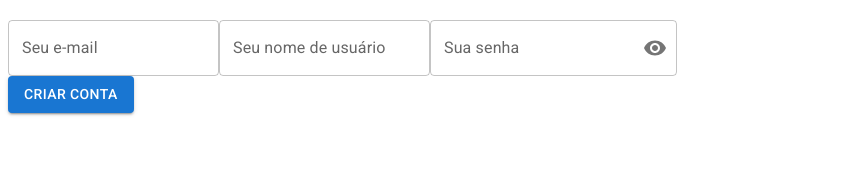
it: Create Account Form - account validation schema › username › renders input error messages when try submit form with username with whitespace between the text
The width and height of the screenshot is (862, 172).
Step 1. Type "user name" into the field labelled "Seu nome de usuário" → point(324, 48), box x1=219 y1=20 x2=430 y2=76
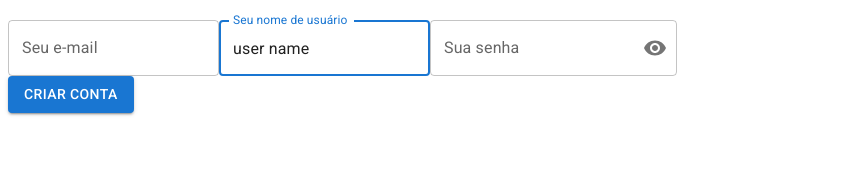
Step 2. Click the button "Criar conta" → point(71, 94), box x1=8 y1=76 x2=134 y2=112
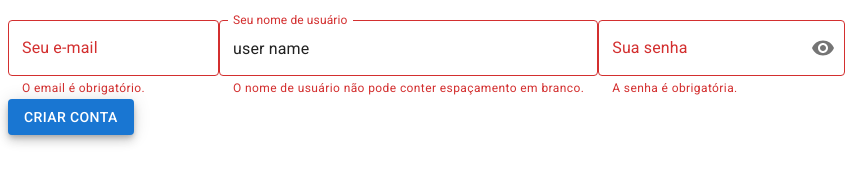
Check: the text "O nome de usuário não pode conter espaçamento em branco." is shown, box x1=233 y1=79 x2=584 y2=99
